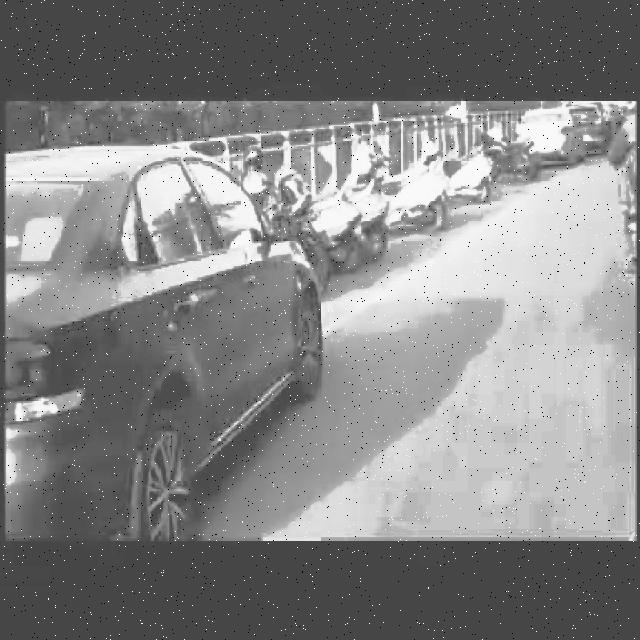Car: (1, 134, 372, 538), (517, 105, 606, 167)
